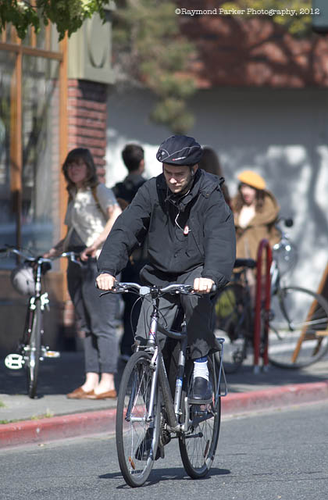bikerider: (82, 123, 249, 483)
